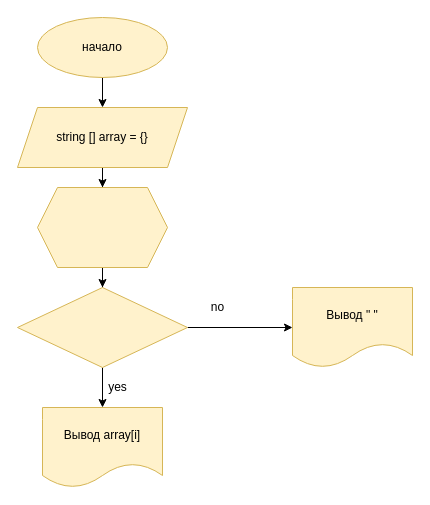
This 430x505 diagram has some shape labels left out. The shapes that lost their labels are listed below. From the top down, each one's centre as x and y in pixels, then its label:
At pixel 102 227: "i=0, i<array.Length, i++".
At pixel 102 327: "array[i].Length<=3".
